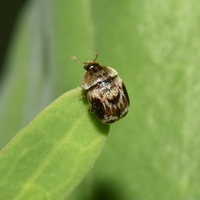insect: (71, 51, 129, 123)
